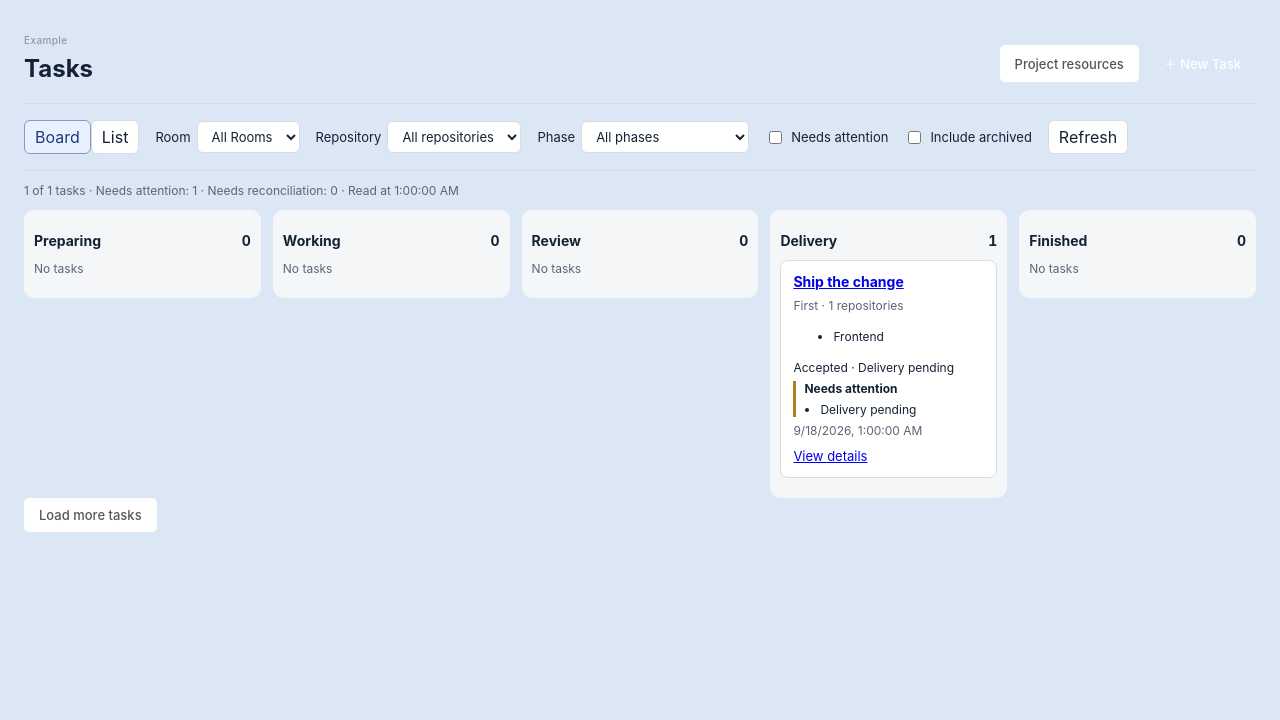
it: Task board shared read view › restarts stale pagination instead of appending a changed snapshot
Check: the link "Ship the change" is shown, box [793,273,904,290]
Click the button "Load more tasks" at (90, 515), box [24,498,157,532]
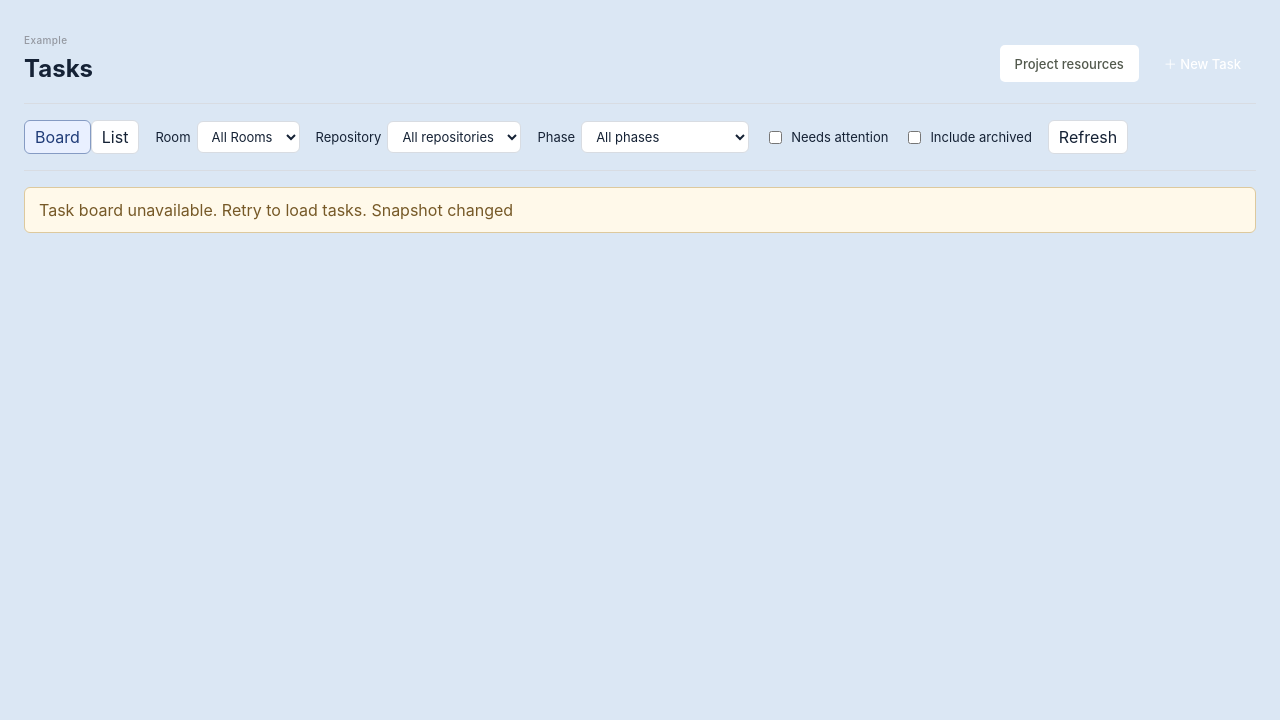
Check: the message "Task board unavailable. Retry to load tasks. Snapshot changed" is shown, box [24,187,1256,233]
Check: the link "Ship the change" is gone
Click the button "Refresh" at (1088, 137), box [1048,120,1128,154]
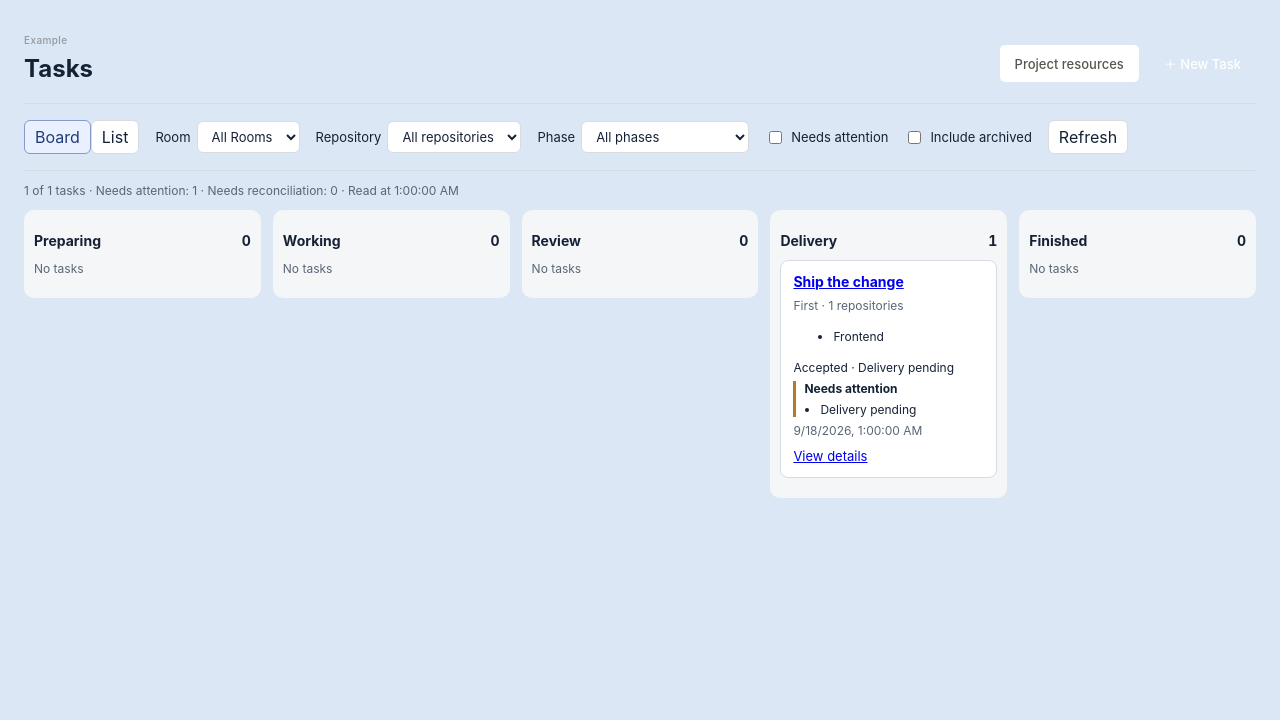
Check: the link "Ship the change" is shown, box [793,273,904,290]
